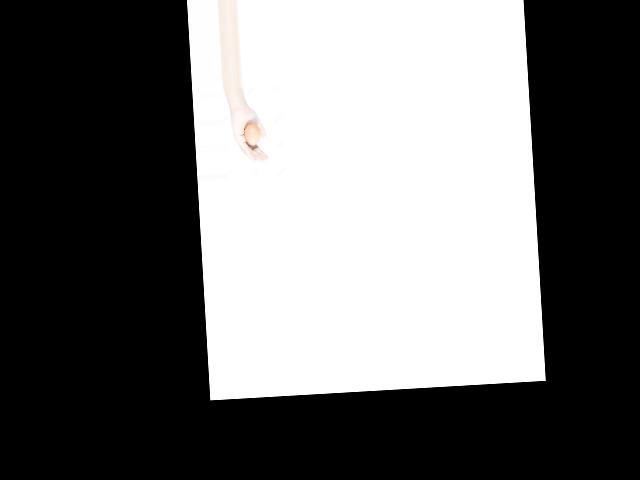egg: (243, 123, 260, 145)
